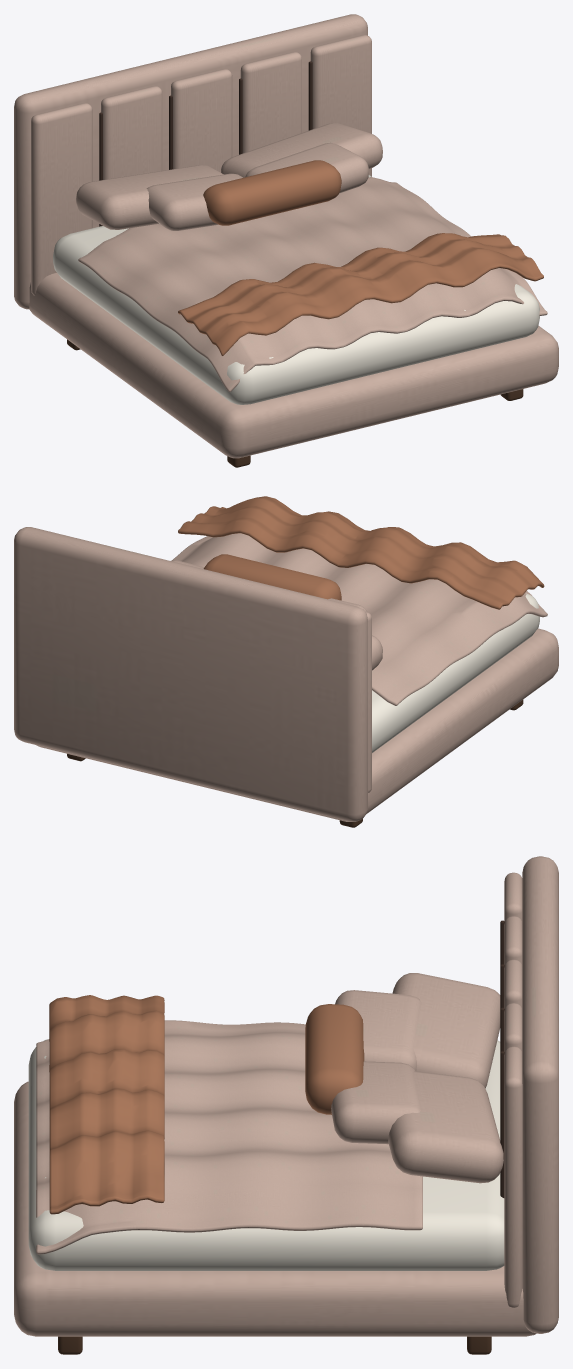
Rendered from project-modern-upholstered-bed.glb.
3 views of the same model, one above another, from view 1: azimuth 30°, elevation 25°; view 2: azimuth 150°, elevation 25°; view 3: azimuth 270°, elevation 25° (orthographic). The views are drawn at different scales.
Parts seen in each view (by area): view 1: sculpted-duvet, platform, mattress, folded-clay-throw, headboard-core, headboard-channel-1, lumbar-cushion, headboard-channel-3, headboard-channel-5, headboard-channel-4, headboard-channel-2, back-pillow-left (+3 smaller); view 2: headboard-core, sculpted-duvet, folded-clay-throw, platform, mattress, lumbar-cushion, headboard-channel-1; view 3: sculpted-duvet, platform, mattress, folded-clay-throw, headboard-core, back-pillow-right, back-pillow-left, lumbar-cushion, front-pillow-right, headboard-channel-5, front-pillow-left, headboard-channel-1 (+4 smaller).
Part boxes in pixels (left/top/right/bottom): sculpted-duvet: left=78, top=177, right=547, bottom=391; platform: left=29, top=273, right=558, bottom=458; mattress: left=53, top=175, right=539, bottom=404; folded-clay-throw: left=178, top=233, right=543, bottom=355; headboard-core: left=14, top=14, right=367, bottom=309; headboard-channel-1: left=31, top=103, right=92, bottom=295; lumbar-cushion: left=203, top=160, right=341, bottom=225; headboard-channel-3: left=171, top=69, right=232, bottom=172; headboard-channel-5: left=310, top=35, right=371, bottom=176; headboard-channel-4: left=240, top=52, right=301, bottom=153; headboard-channel-2: left=101, top=86, right=162, bottom=179; back-pillow-left: left=76, top=165, right=223, bottom=229; headboard-core: left=14, top=527, right=367, bottom=821; sculpted-duvet: left=173, top=533, right=547, bottom=705; folded-clay-throw: left=178, top=496, right=544, bottom=609; platform: left=36, top=628, right=558, bottom=821; mattress: left=372, top=593, right=539, bottom=752; lumbar-cushion: left=203, top=554, right=341, bottom=600; headboard-channel-1: left=366, top=612, right=371, bottom=792; sculpted-duvet: left=36, top=1020, right=422, bottom=1254; platform: left=14, top=1081, right=536, bottom=1336; mattress: left=28, top=1039, right=504, bottom=1270; folded-clay-throw: left=49, top=995, right=164, bottom=1214; headboard-core: left=522, top=856, right=558, bottom=1333; back-pillow-right: left=388, top=1071, right=503, bottom=1183; back-pillow-left: left=392, top=973, right=500, bottom=1088; lumbar-cushion: left=305, top=1004, right=364, bottom=1114; front-pillow-right: left=331, top=1061, right=421, bottom=1144; headboard-channel-5: left=504, top=1046, right=522, bottom=1307; front-pillow-left: left=335, top=990, right=421, bottom=1070; headboard-channel-1: left=504, top=872, right=522, bottom=921.
Bounding box in the file's own units: 2.1 × 1.38 × 2.23.
5 materials, 1 textured.
